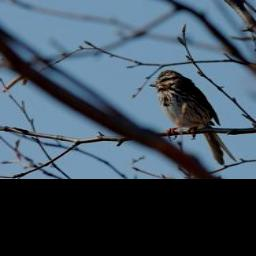Sparrow: (149, 67, 240, 166)
